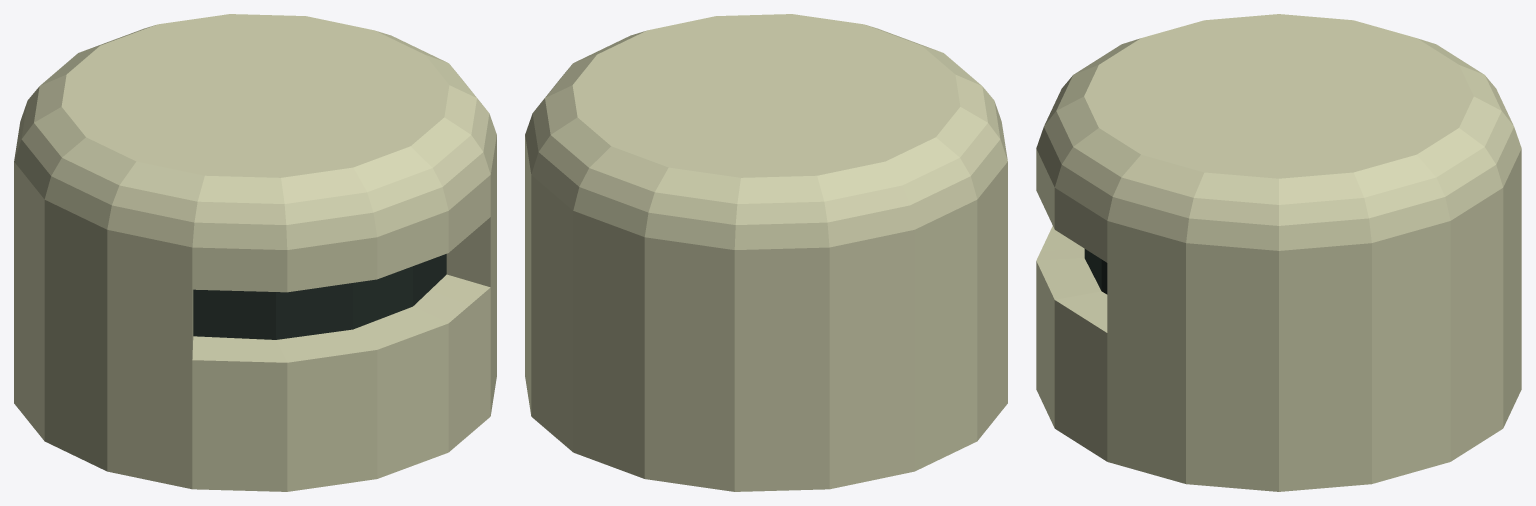
Rendered from Bunker.fbx.
3 views of the same model, side by side, from view 1: azimuth 30°, elevation 25°; view 2: azimuth 150°, elevation 25°; view 3: azimuth 270°, elevation 25° (orthographic).
Parts seen in each view (by area): view 1: Bunker; view 2: Bunker; view 3: Bunker.
Part boxes in pixels (x1,y1,x2,y2): Bunker: (14,14,496,491); Bunker: (525,14,1007,491); Bunker: (1036,14,1521,491).
Size of the model in its own units: 200 by 133 by 200.
